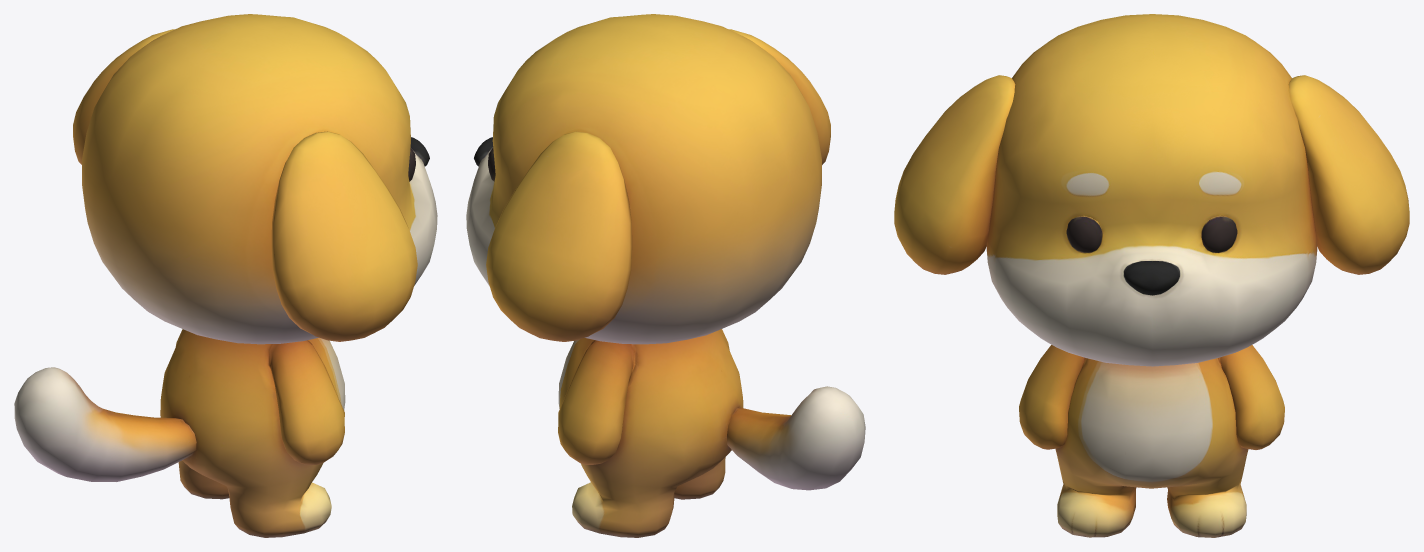
File: dog.glb
3 views of the same model, side by side, from view 1: azimuth 30°, elevation 25°; view 2: azimuth 150°, elevation 25°; view 3: azimuth 270°, elevation 25° (orthographic). The views are drawn at different scales.
Visible parts, largest first — view 1: tripo_node_278ac457-5735-46ff-a8f6-64f4617cf3cf; view 2: tripo_node_278ac457-5735-46ff-a8f6-64f4617cf3cf; view 3: tripo_node_278ac457-5735-46ff-a8f6-64f4617cf3cf.
Boxes of the visible parts, box(x1,y1,x2,y2) form: tripo_node_278ac457-5735-46ff-a8f6-64f4617cf3cf: box(14, 14, 437, 537); tripo_node_278ac457-5735-46ff-a8f6-64f4617cf3cf: box(466, 14, 865, 537); tripo_node_278ac457-5735-46ff-a8f6-64f4617cf3cf: box(894, 14, 1409, 537).
Size of the model in its own units: 0.877 by 0.998 by 0.9707.
1 material, 1 textured.
